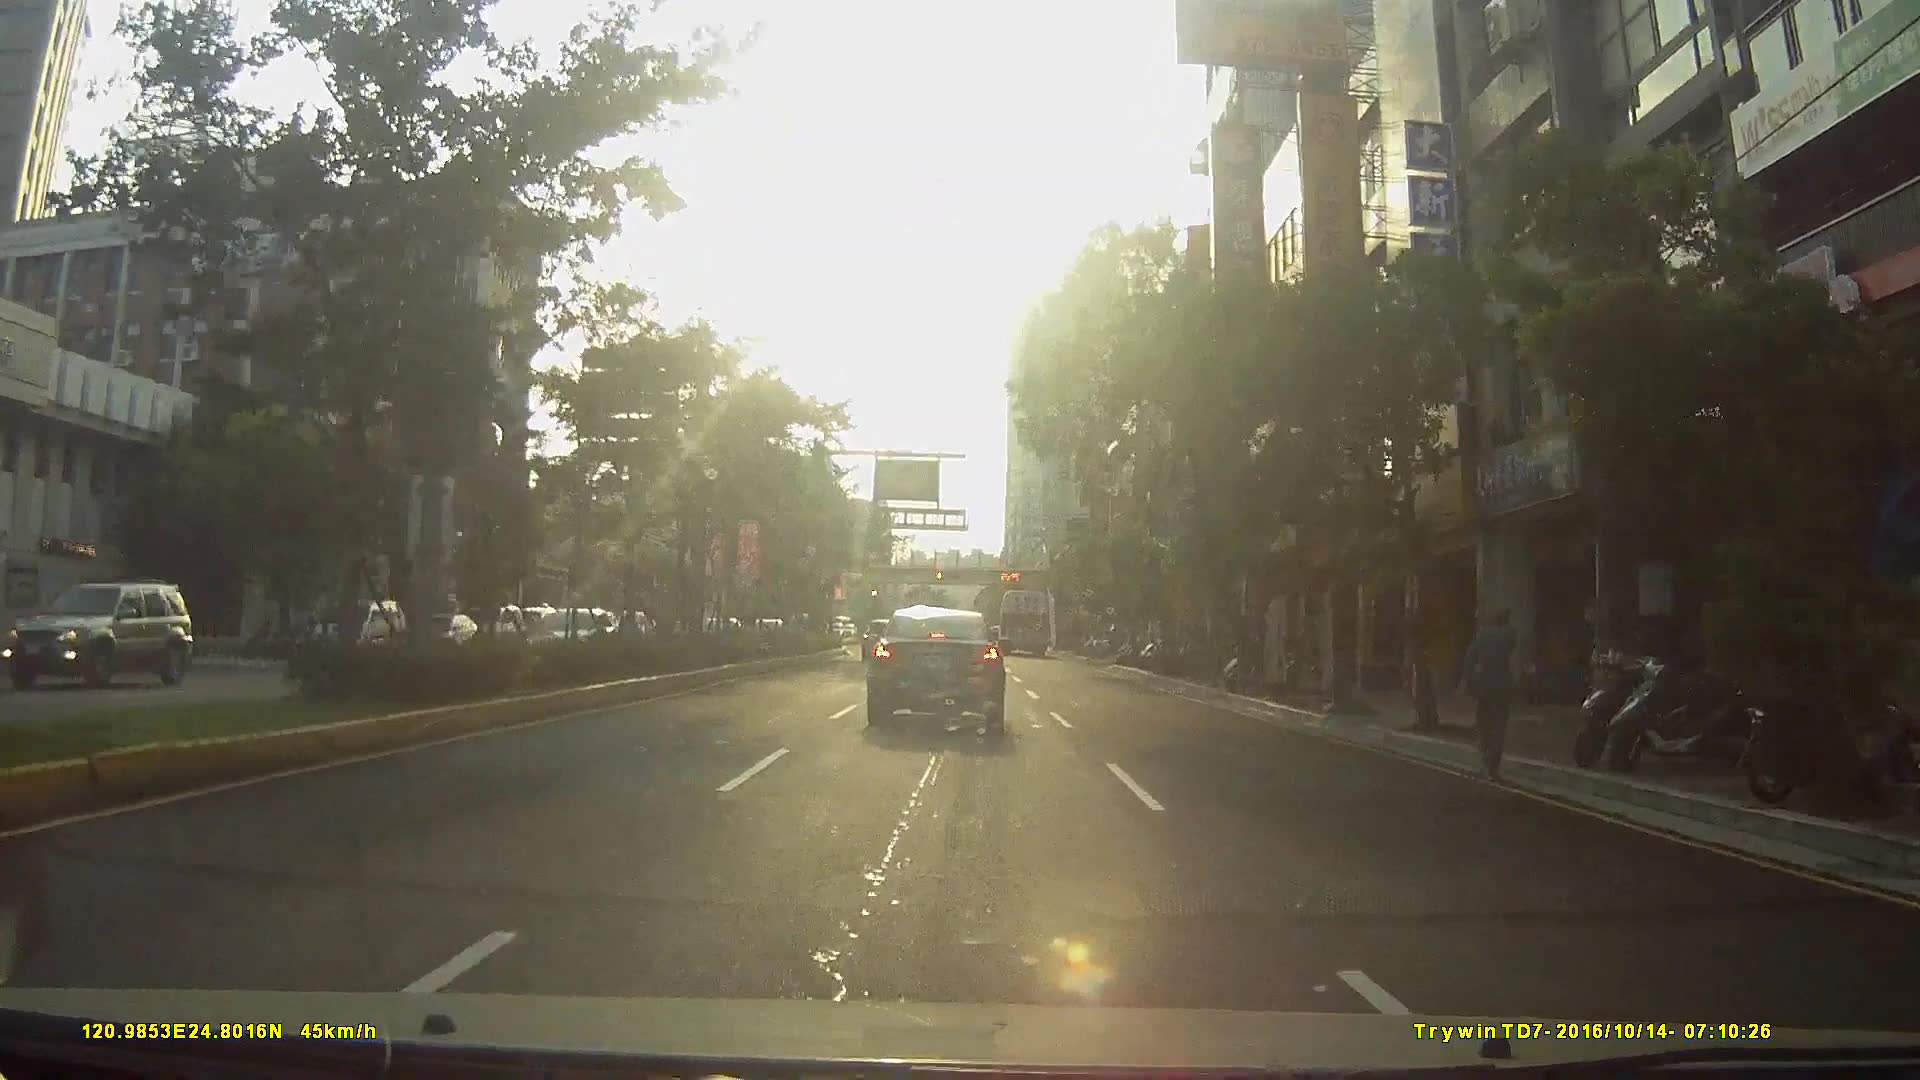pedestrian: (1466, 611, 1527, 784)
vehicle: (1, 580, 207, 708), (864, 606, 1006, 728), (307, 597, 402, 657), (995, 589, 1051, 656)
